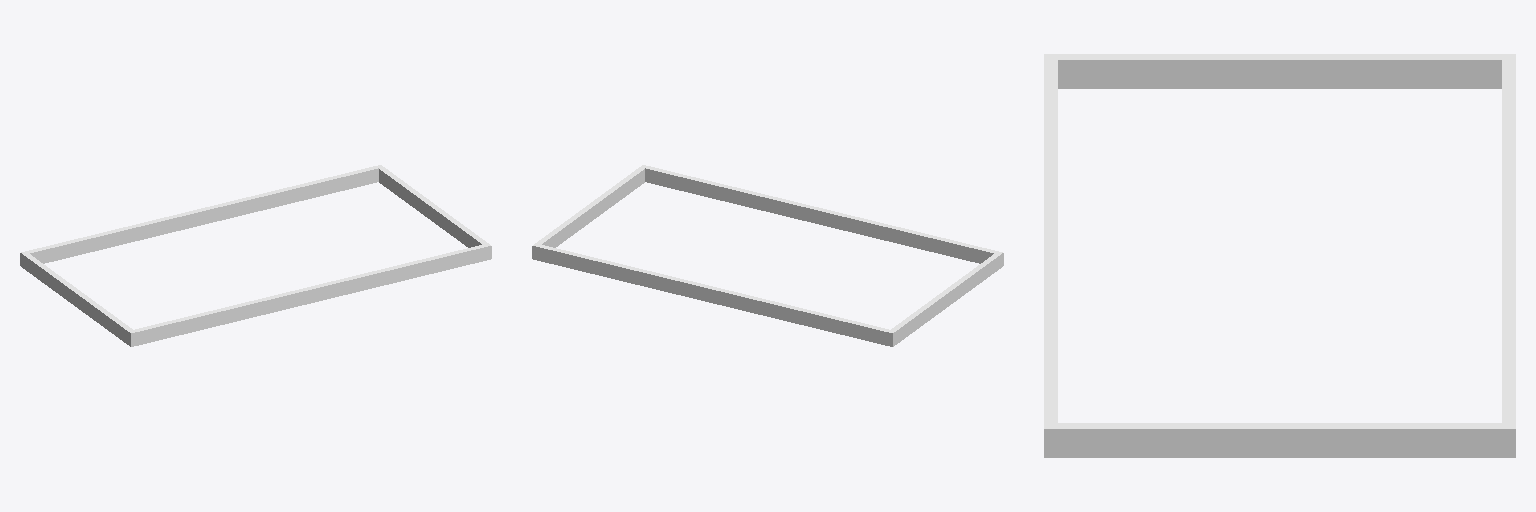
URDF robot description (field):
<robot name="field">
    <link name="base_link">
        <visual>
            <geometry>
                <mesh filename="field.obj"/>
            </geometry>
            <material name="white">
                <color rgba="1 1 1 1"/>
            </material>
        </visual>
        <collision>
            <origin xyz="1.2 0 0" rpy="0 0 0"/>
            <geometry>
                <box size="0.038 1.22 0.0889"/>
            </geometry>
        </collision>
        <collision>
            <origin xyz="-1.2 0 0" rpy="0 0 0"/>
            <geometry>
                <box size="0.038 1.22 0.0889"/>
            </geometry>
        </collision>
        <collision>
            <origin xyz="0 0.61 0" rpy="0 0 0"/>
            <geometry>
                <box size="2.44 0.038 0.0889"/>
            </geometry>
        </collision>
        <collision>
            <origin xyz="0 -0.61 0" rpy="0 0 0"/>
            <geometry>
                <box size="2.44 0.038 0.0889"/>
            </geometry>
        </collision>
        <inertial>
            <mass value="0"/>
            <inertia ixx="0" ixy="0" ixz="0" iyy="0" iyz="0" izz="0"/>
        </inertial>
    </link>
</robot>

--- What the picture shows (computed from the rendered views, not written in the file) ---
The picture shows the robot from 3 angles, left to right: view 1: azimuth 30°, elevation 25°; view 2: azimuth 150°, elevation 25°; view 3: azimuth 270°, elevation 25°; orthographic projection.
Model field with 1 links and 0 joints (none), rooted at base_link, posed all joints at 0.
Visible links, largest first — view 1: base_link; view 2: base_link; view 3: base_link.
Boxes of the visible links, left/top/right/bottom form: base_link: left=20, top=165, right=491, bottom=346; base_link: left=532, top=165, right=1003, bottom=346; base_link: left=1044, top=54, right=1515, bottom=457.
Bounding box of the posed robot: 2.44 × 1.3 × 0.0889 m (x, y, z).
1 mesh visuals loaded from 1 distinct referenced files (1 OBJ).